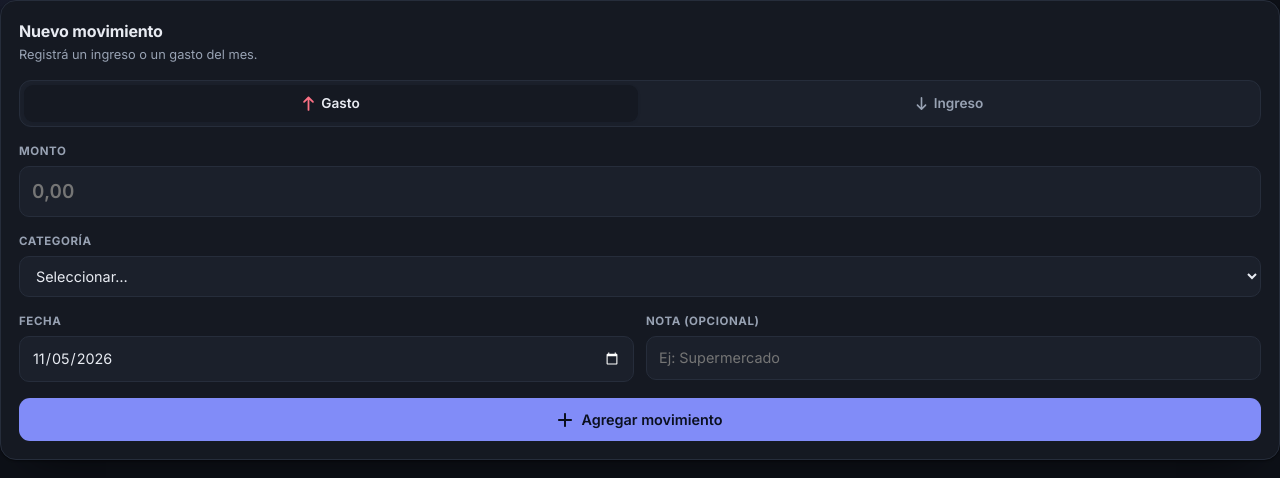
Test: TransactionForm › registra un gasto válido y normaliza la coma decimal
Type "1234,56" into the field labelled "Monto" at point(640, 191), box [19, 166, 1261, 217]
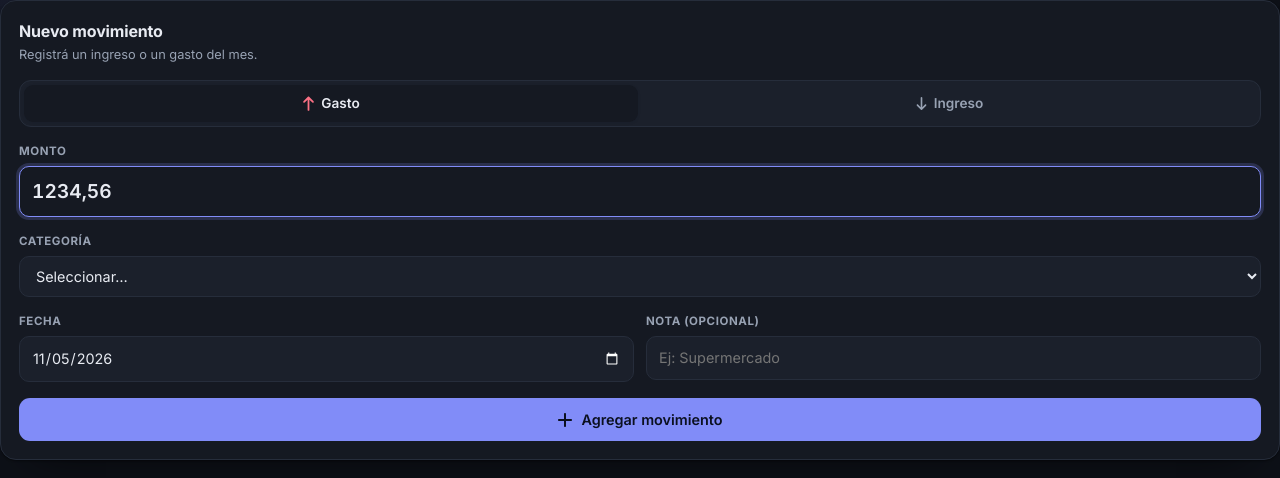
Select "🍔 Comida" in the dropdown labelled "Categoría" at point(640, 276), box [19, 256, 1261, 297]
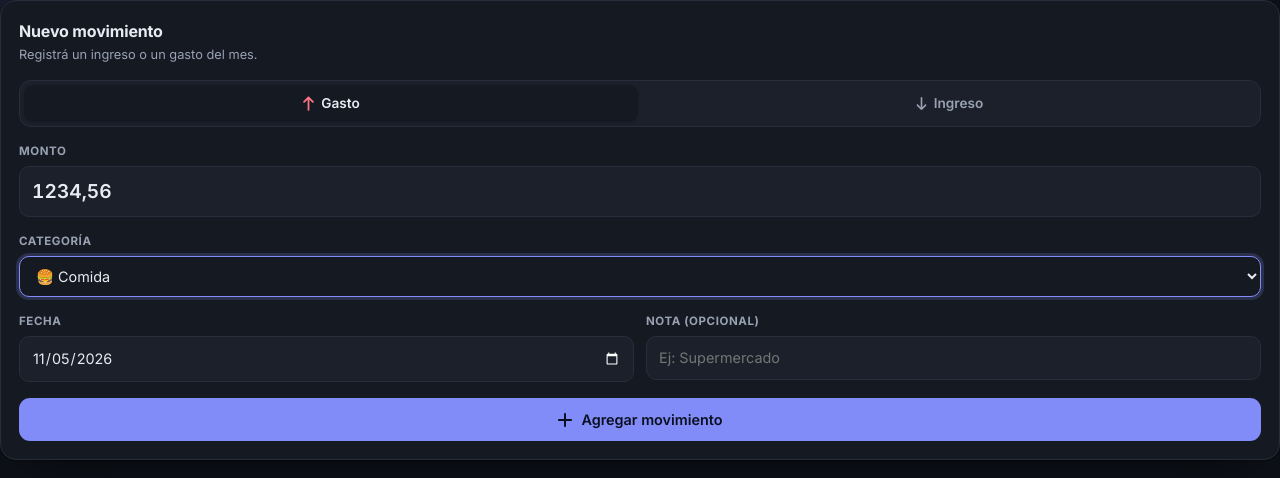
Type "  Supermercado  " into the field labelled "Nota (opcional)" at point(954, 358), box [646, 336, 1261, 380]
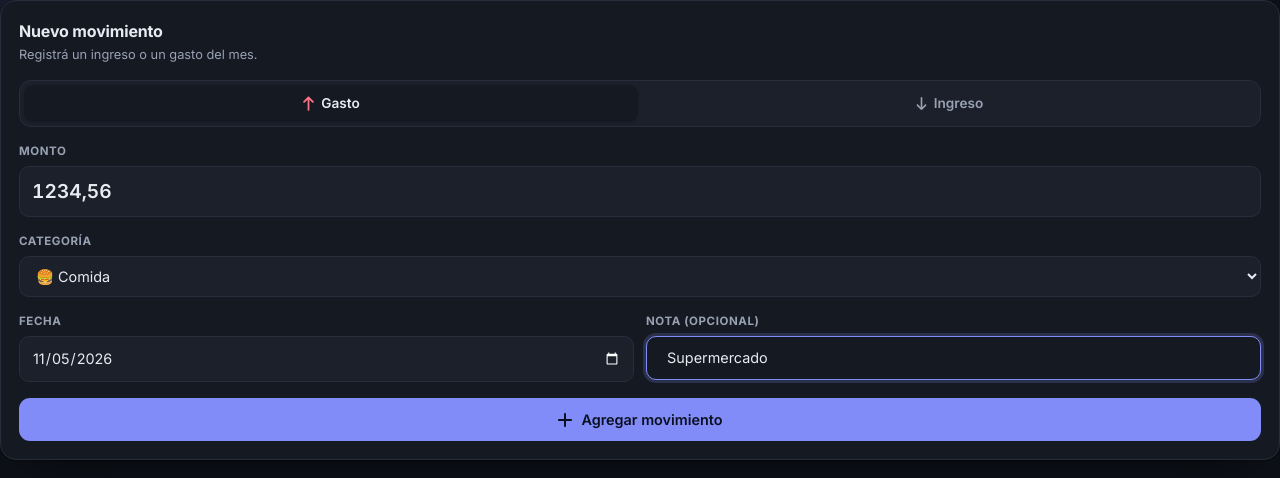
Click the button "Agregar movimiento" at point(640, 420), box [19, 398, 1261, 441]
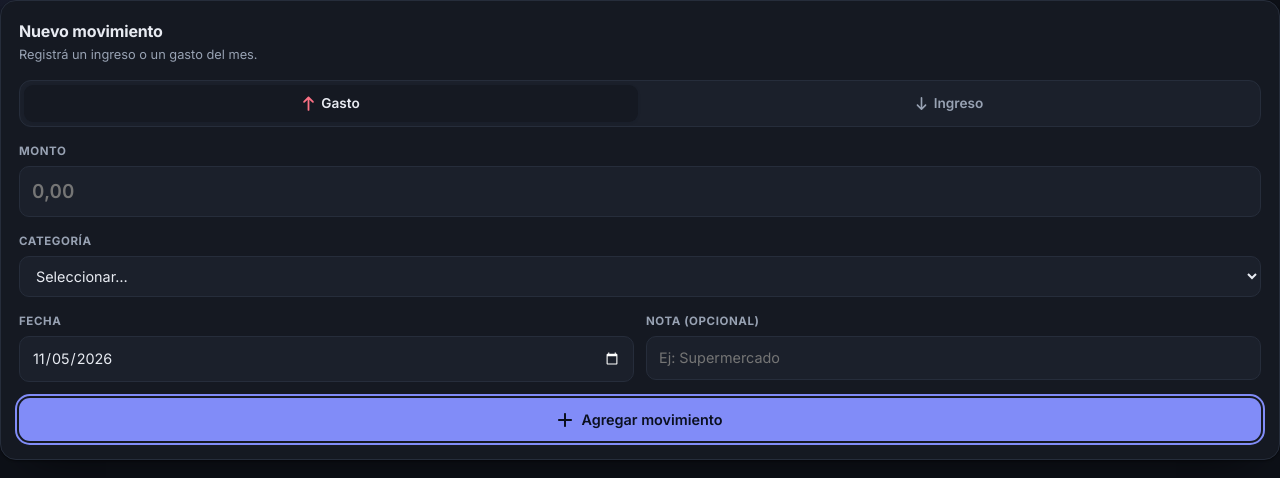
Expected: the field labelled "Monto" is empty, [19, 166, 1261, 217]
